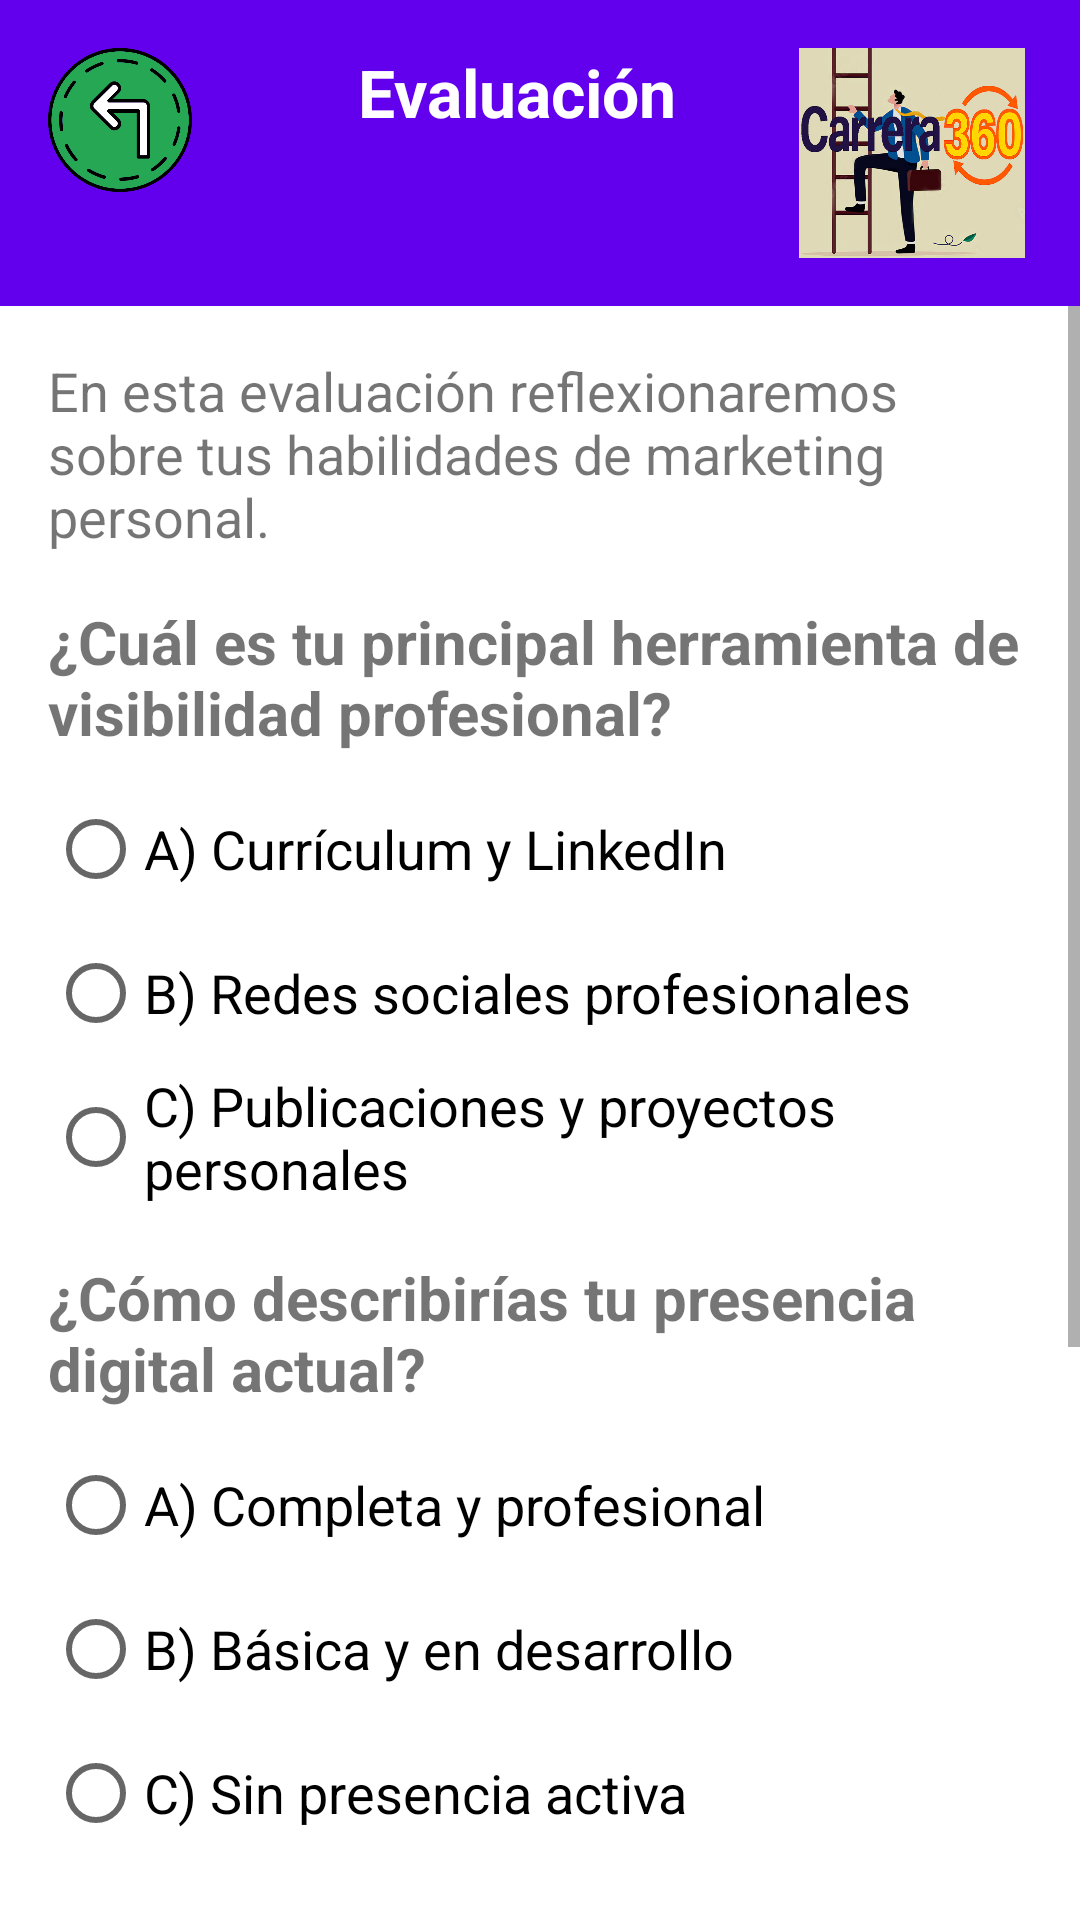

Icons on this 1080*1920 Android screen, each with its box as (x1, y1, x2, y2):
Regresar a Inicio: (48, 48, 192, 192)
